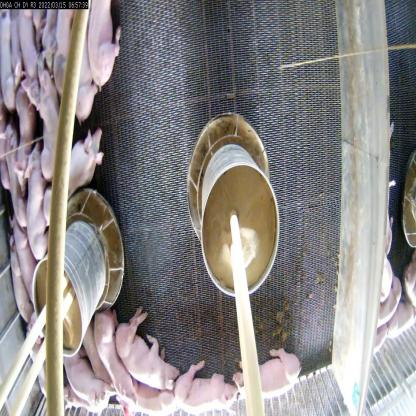Pig: (35, 128, 113, 234), (16, 66, 66, 184), (232, 344, 314, 415), (105, 319, 178, 390), (85, 5, 122, 93), (26, 159, 64, 243), (118, 371, 185, 415), (182, 368, 235, 404)
